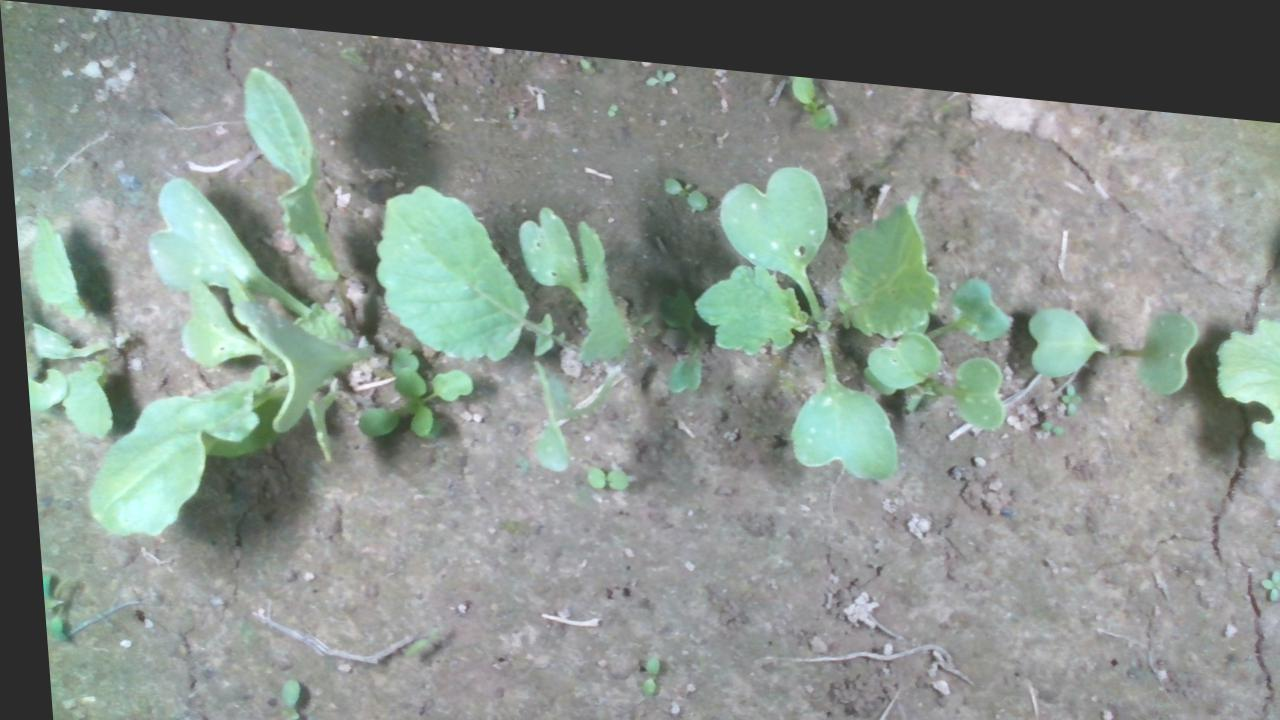weed: (658, 159, 706, 197), (1193, 701, 1278, 719), (1248, 537, 1279, 579), (576, 452, 622, 479), (628, 641, 653, 684), (1052, 359, 1078, 395), (642, 52, 675, 75), (1033, 397, 1058, 415), (601, 85, 618, 106)
